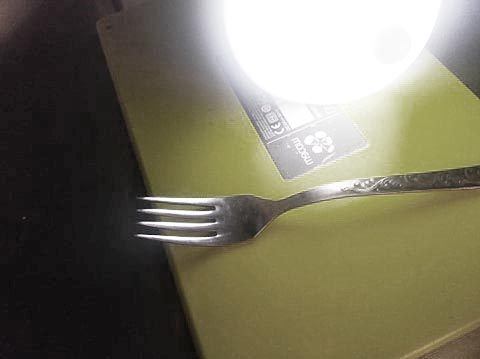Widelec: (131, 189, 290, 251)
